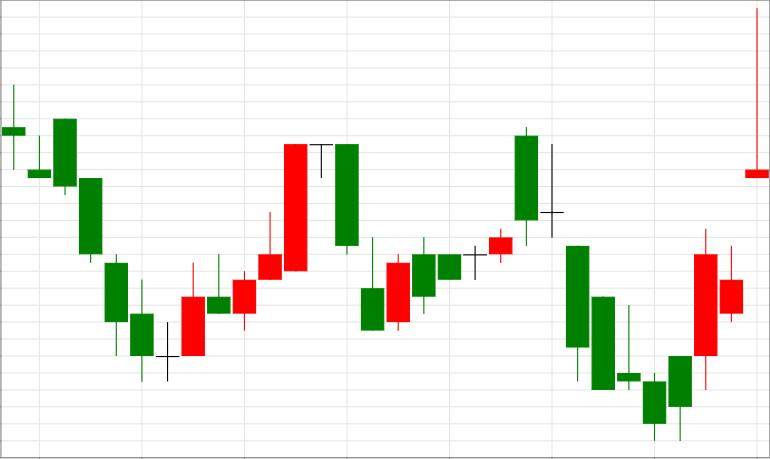evening_star_fall: (156, 143, 359, 382)
morning_star_rise: (1, 83, 205, 382)
